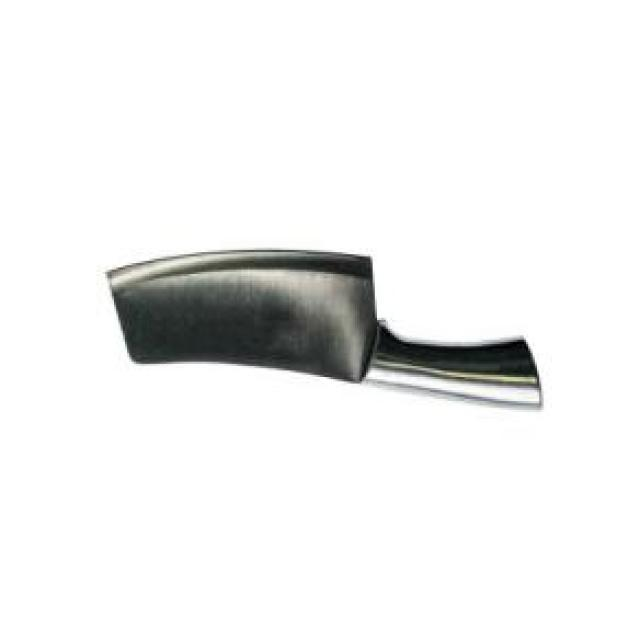knife: (101, 236, 550, 423)
